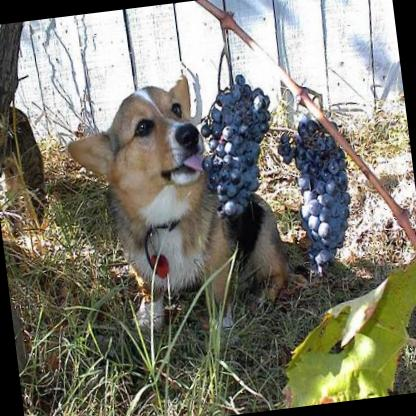Pembroke: (57, 66, 297, 346)
